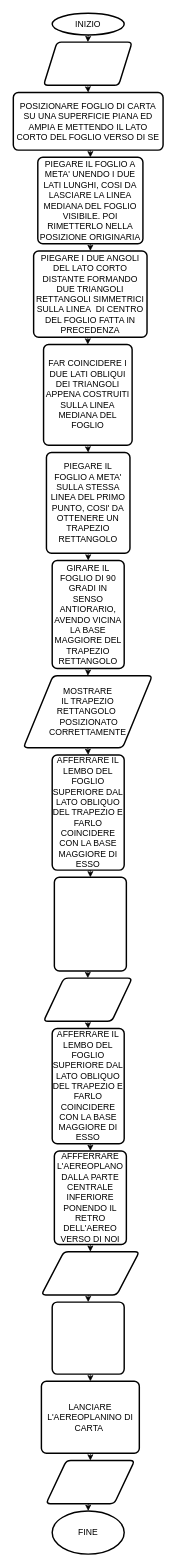
Image size: 176x1567. Some labels were removed from this diagram. Here are the shapes that lost their labels. From the top down, the centre of each, then its label:
the point at 87,63: PROCURARSI UN FOGLIO DI CARTA
the point at 90,923: CAPOVOLGERE IL FOGLIO METTENDO IL LATO CHE PRIMA ERA QUELLO INFERIORE IN ALTO
the point at 87,999: MOSTRARE IL FOGLIO CAPOVOLTO
the point at 90,1273: MOSTRARE IL RETRO DELL' AEREOPLANO
the point at 88,1337: PIEGARE LEGGERMENTE LE DUE ALI IN MODO CHE FORMINO UNA ''T''
the point at 90,1481: MOSTRARE AEREOPLANINO CHE VOLA
